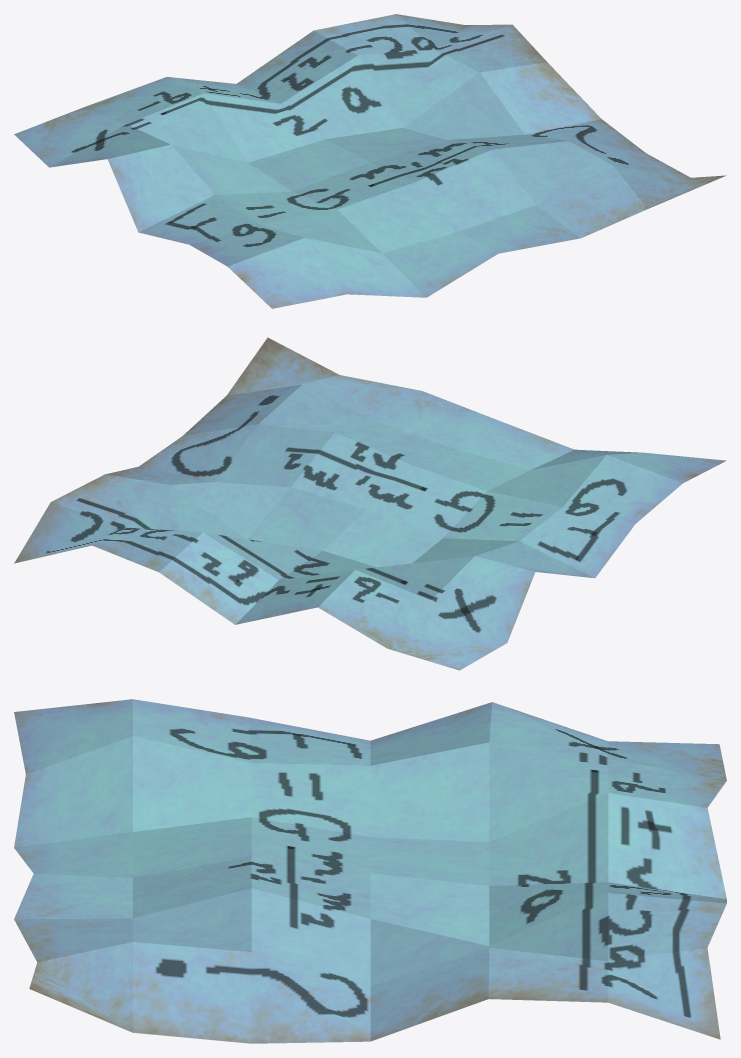
The model's file is paper4.gltf.
The picture shows the model from 3 angles, top to bottom: view 1: azimuth 30°, elevation 25°; view 2: azimuth 150°, elevation 25°; view 3: azimuth 270°, elevation 25°; orthographic projection. The views are drawn at different scales.
Visible parts, largest first — view 1: Plane; view 2: Plane; view 3: Plane.
Boxes of the visible parts, box(x1,y1,x2,y2) form: Plane: box(14, 14, 726, 308); Plane: box(14, 337, 726, 670); Plane: box(14, 699, 726, 1043).
Size of the model in its own units: 0.2783 by 0.0271 by 0.2783.
Materials: 1 (1 with a texture image).
